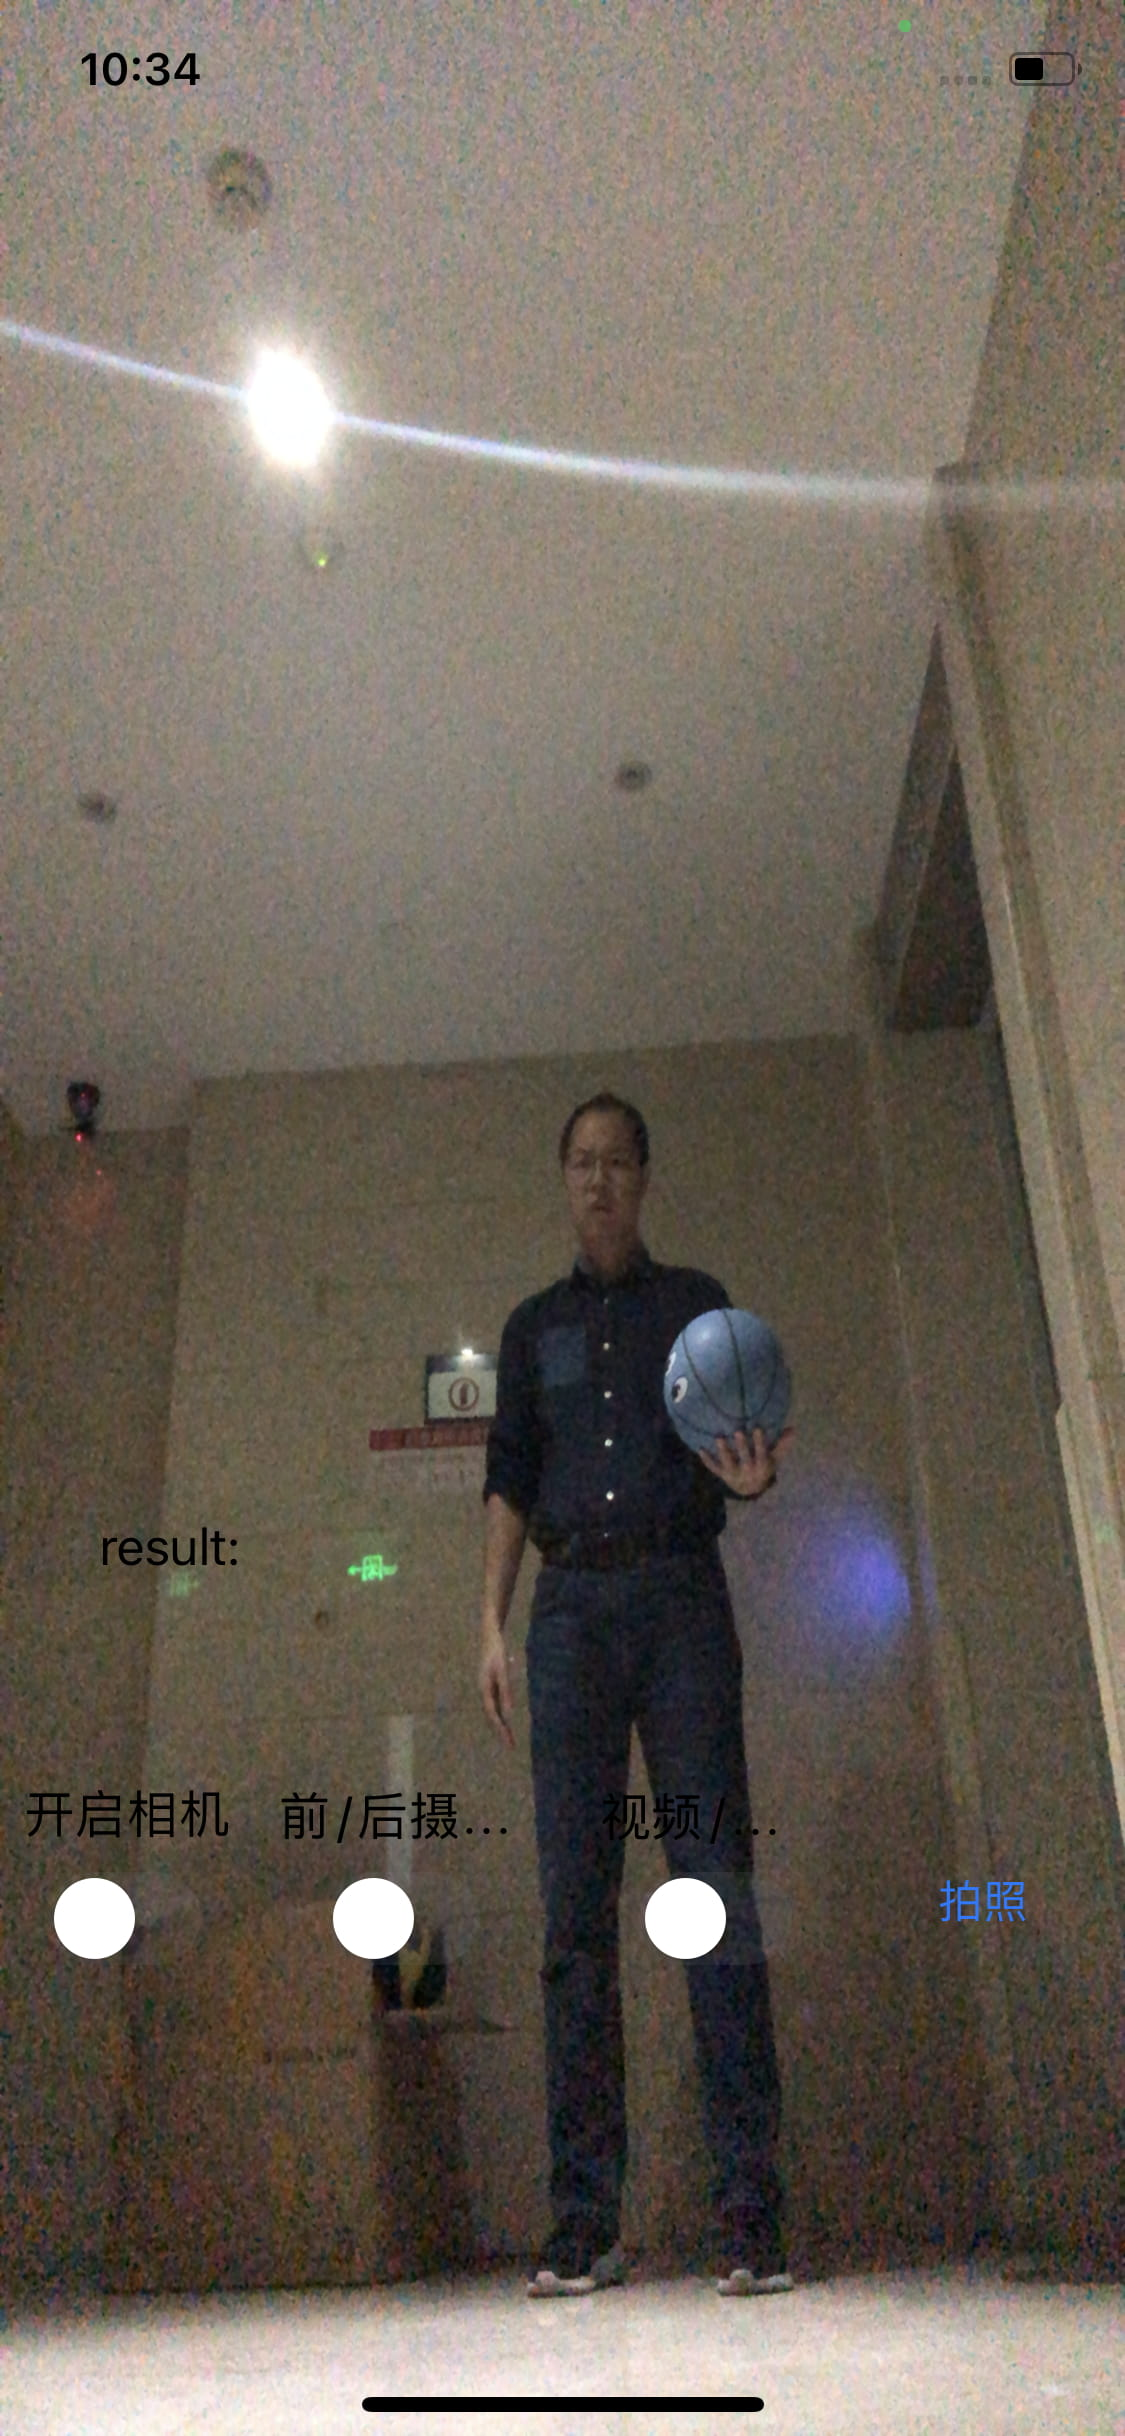ball: (664, 1307, 796, 1459)
